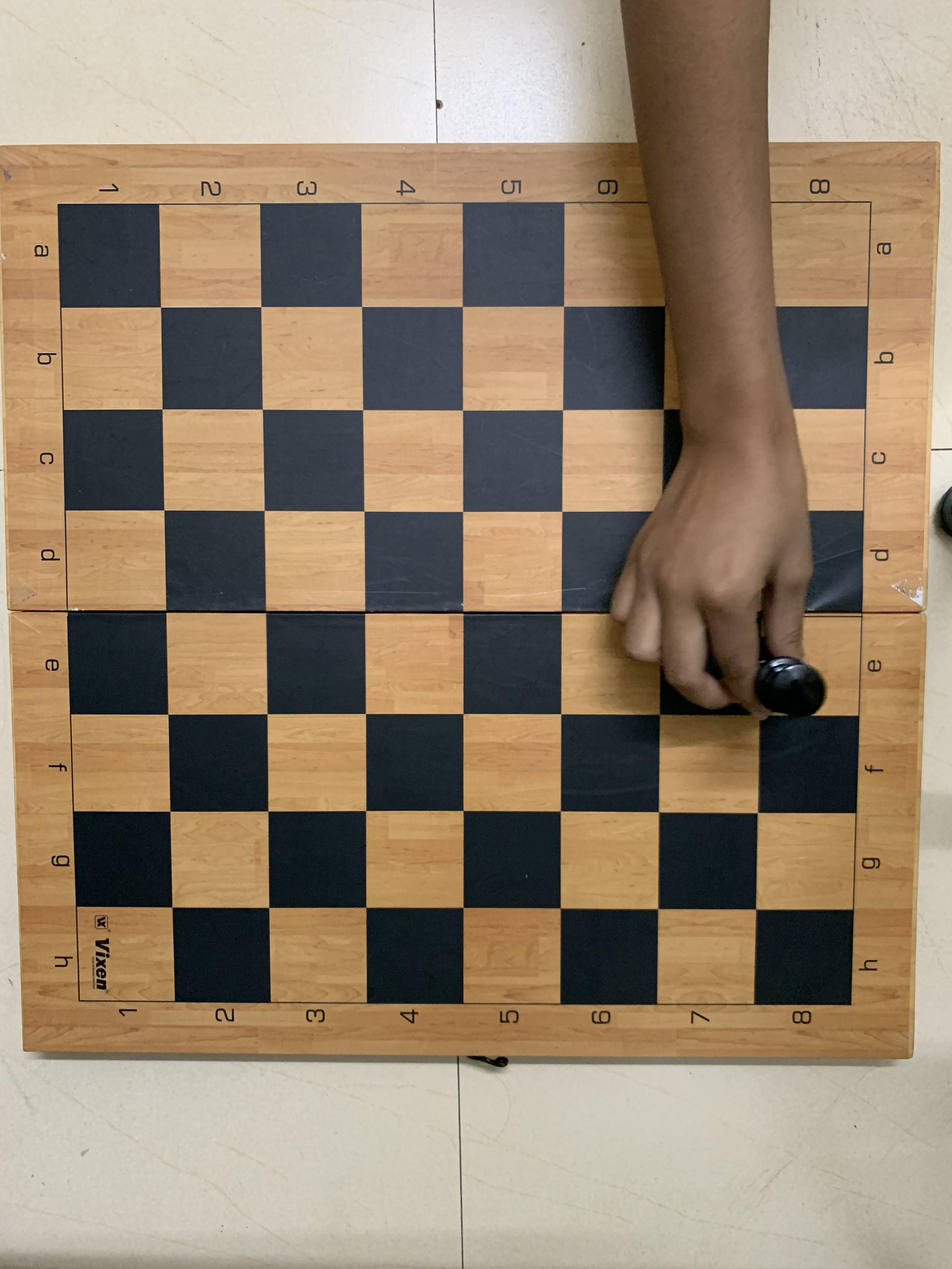black_king: (739, 645, 856, 724)
